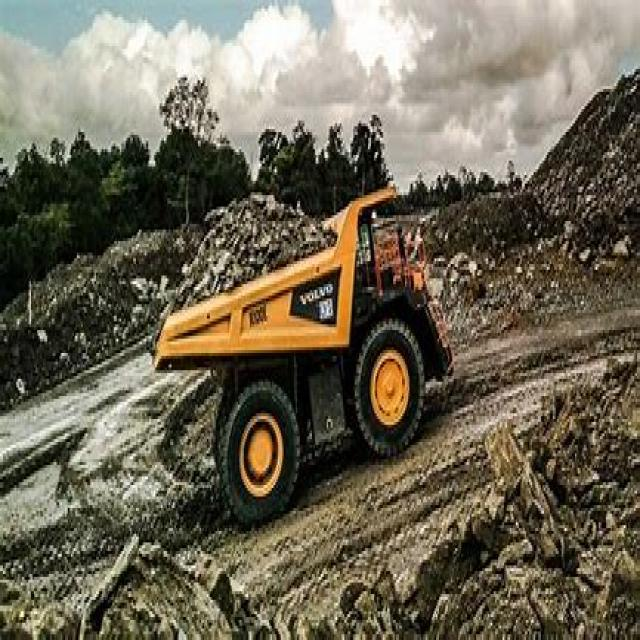dump_truck: (150, 172, 457, 522)
